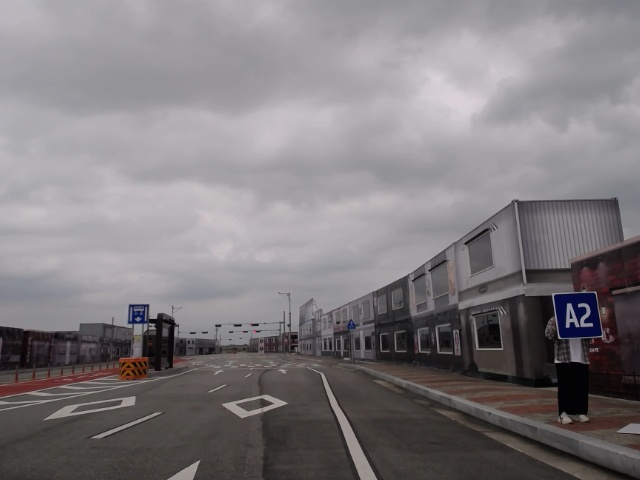delivery_a2: (553, 292, 604, 339)
